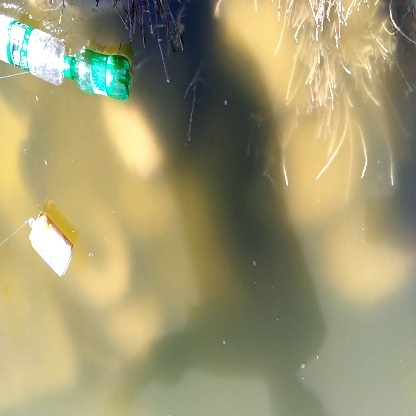bottle: (26, 211, 79, 282), (66, 48, 134, 101)
